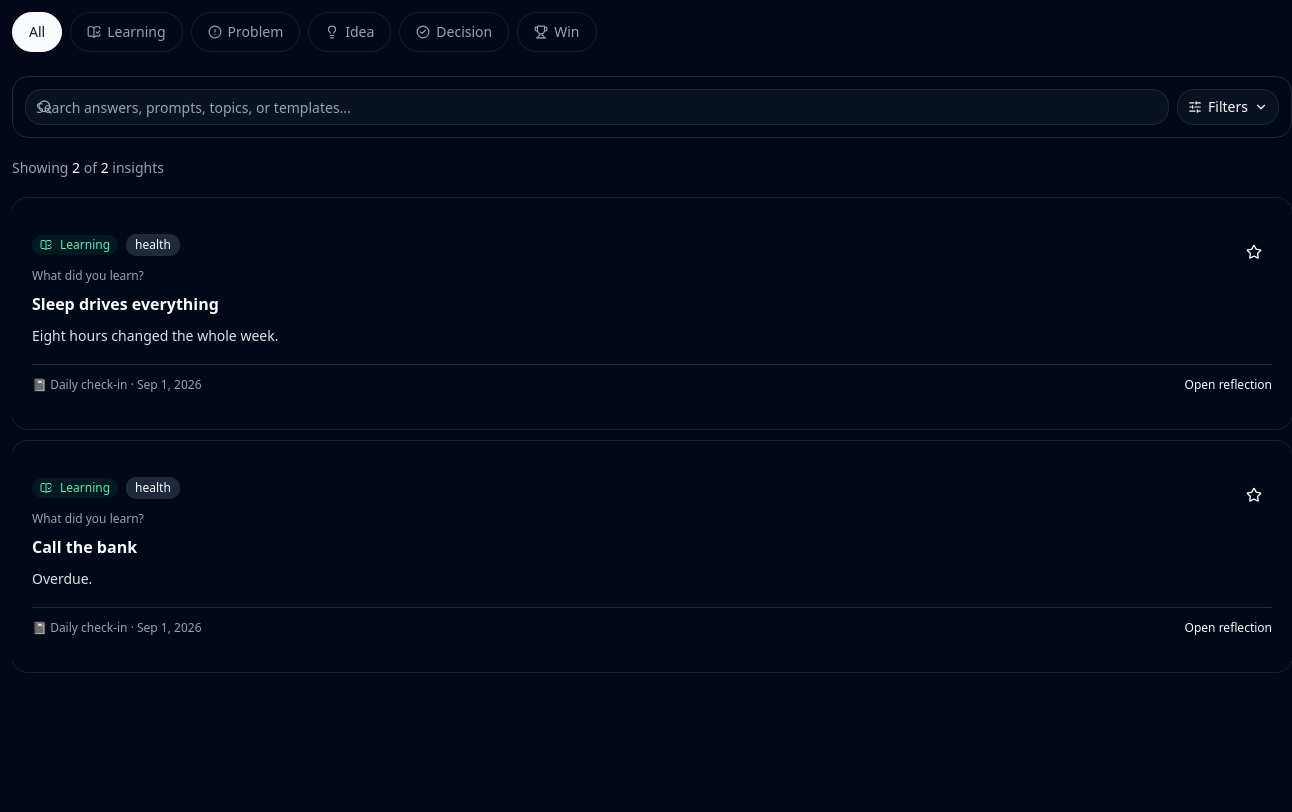
JournalInsights filters › still filters by what is typed
Expected: the heading "Sleep drives everything" is shown, [32,293,219,315]
Expected: the heading "Call the bank" is shown, [32,536,137,558]
In the search field: (597, 107) [25,89,1169,125], type "bank"
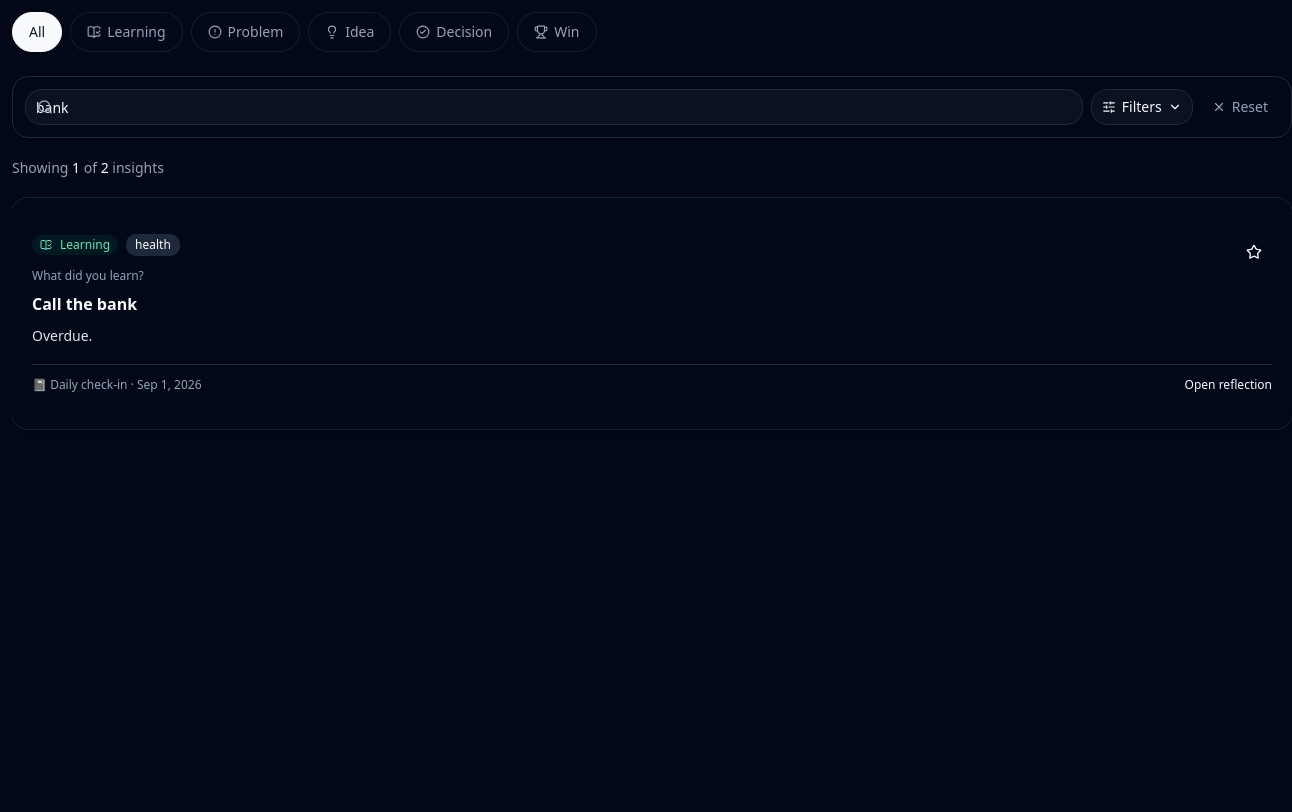
Expected: the heading "Call the bank" is shown, [32,293,137,315]
Now the heading "Sleep drives everything" is gone
